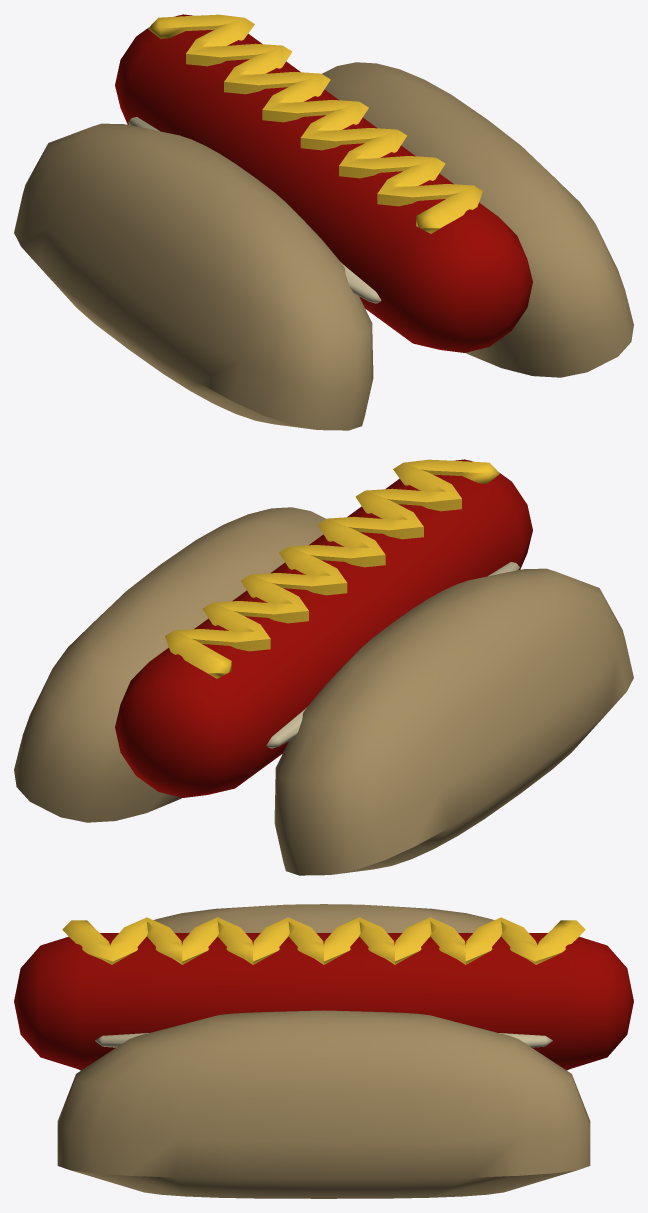
File: shot_hotdog.glb
The picture shows the model from 3 angles, top to bottom: view 1: azimuth 30°, elevation 25°; view 2: azimuth 150°, elevation 25°; view 3: azimuth 270°, elevation 25°; orthographic projection. The views are drawn at different scales.
Visible parts, largest first — view 1: hd_bun, hd_sausage, hd_bun.001, hd_mustard, hd_crumb; view 2: hd_bun, hd_sausage, hd_bun.001, hd_mustard, hd_crumb; view 3: hd_bun.001, hd_sausage, hd_mustard, hd_bun, hd_crumb.001.
Boxes of the visible parts, box(x1,y1,x2,y2) form: hd_bun: box(14, 123, 373, 430); hd_sausage: box(115, 14, 532, 352); hd_bun.001: box(322, 62, 633, 377); hd_mustard: box(148, 14, 482, 233); hd_crumb: box(128, 117, 381, 303); hd_bun: box(274, 568, 633, 875); hd_sausage: box(115, 459, 532, 797); hd_bun.001: box(14, 507, 325, 822); hd_mustard: box(165, 459, 499, 678); hd_crumb: box(266, 562, 519, 748); hd_bun.001: box(57, 1010, 590, 1198); hd_sausage: box(14, 933, 633, 1069); hd_mustard: box(62, 917, 585, 964); hd_bun: box(79, 904, 568, 1070); hd_crumb.001: box(95, 1033, 552, 1047).
Size of the model in its own units: 10.28 by 5.08 by 14.
